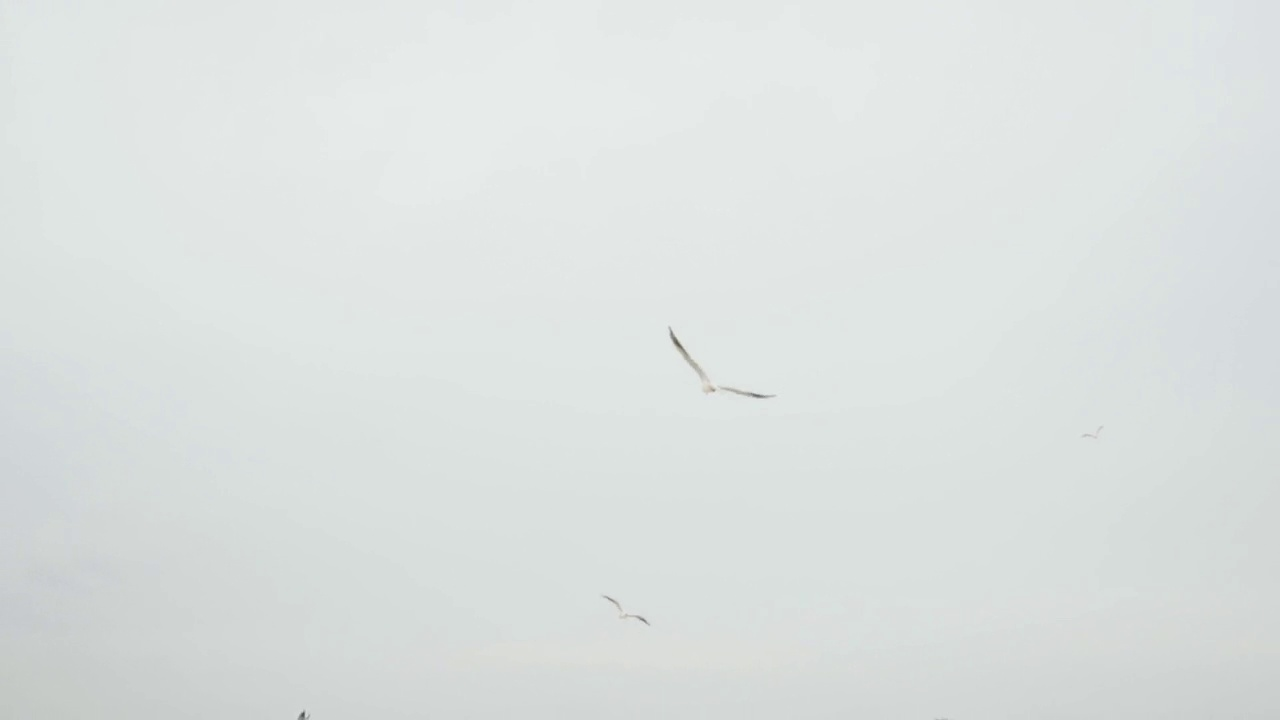bird: (668, 325, 773, 401), (600, 595, 648, 626), (1080, 426, 1104, 441)
